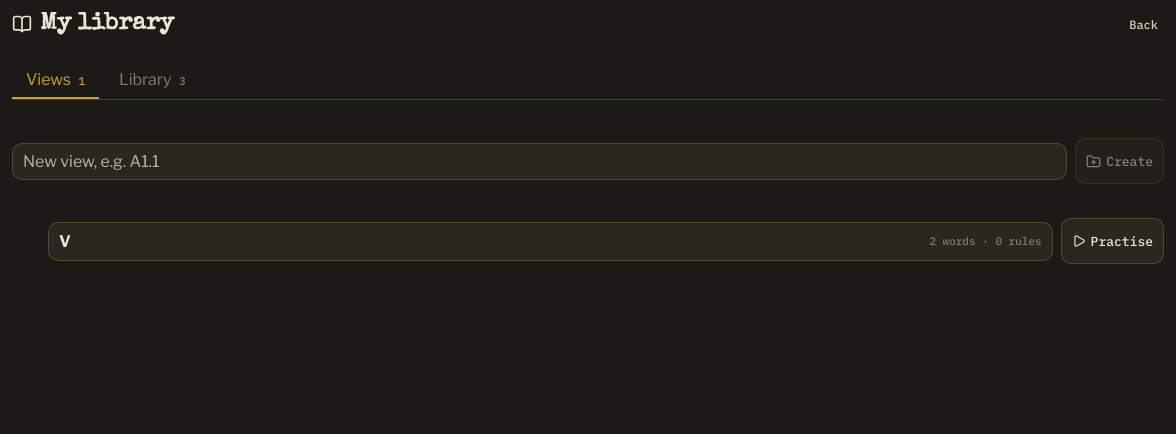
the library (all my words) and the views › Select all shown picks everything on the screen, and Clear shown undoes it
This screenshot has width=1176, height=434.
Click the tab "Library 3" at (152, 80), box [105,62,200,99]
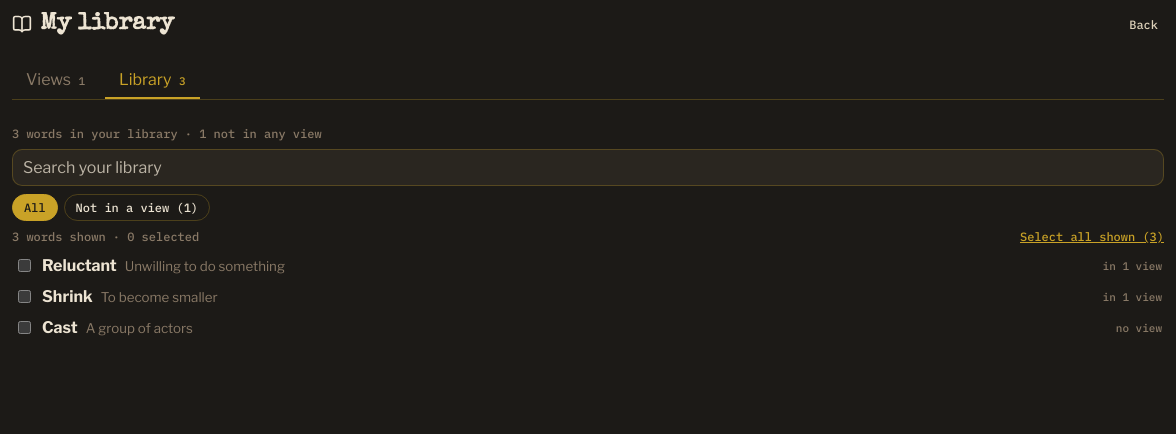
Click the button "Select all shown (3)" at (1092, 236), box [1020,229,1164,244]
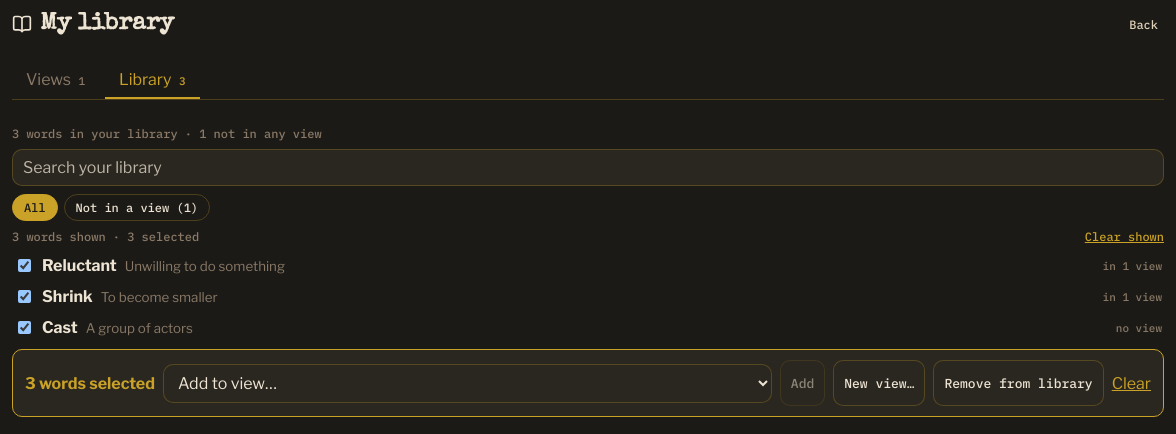
Check: the form with class "lib-actionbar" shows "3 words selected", box [12,349,1164,417]
Click the button "Clear shown" at (1124, 236), box [1085,229,1164,244]
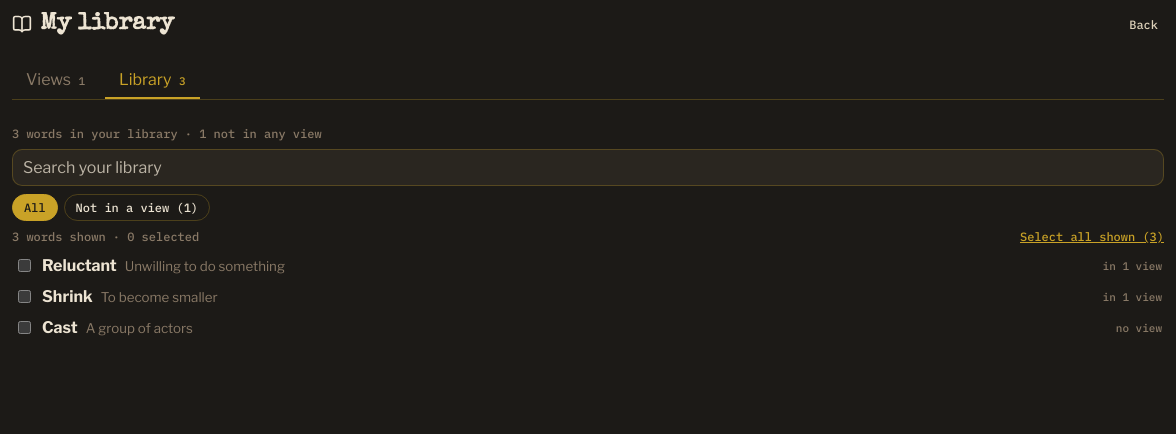
Check: the form with class "lib-actionbar" is gone
